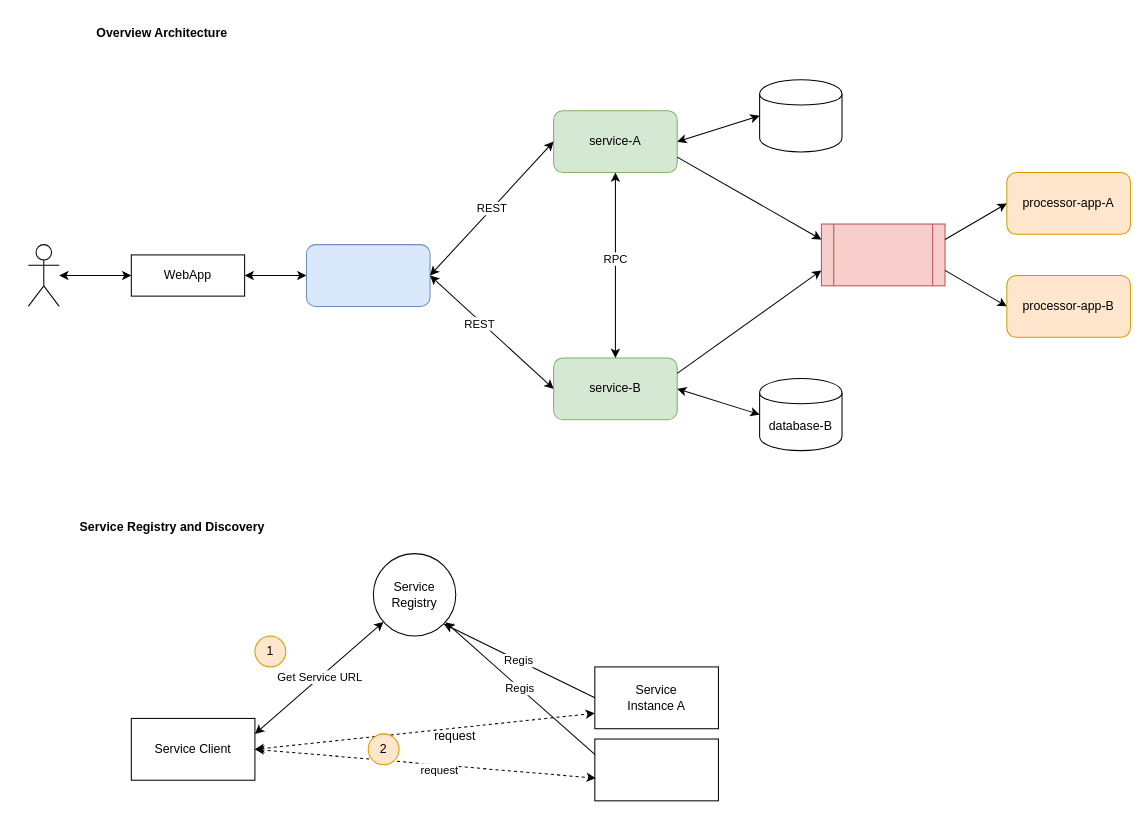
Image size: 1148x819. Some labels were removed from this diagram. Each missing label, with the centre of its shape:
Actor: [43,275]
AMQ: [882,254]
api-gateway: [367,275]
database-A: [800,115]
Service Instance B: [656,769]
